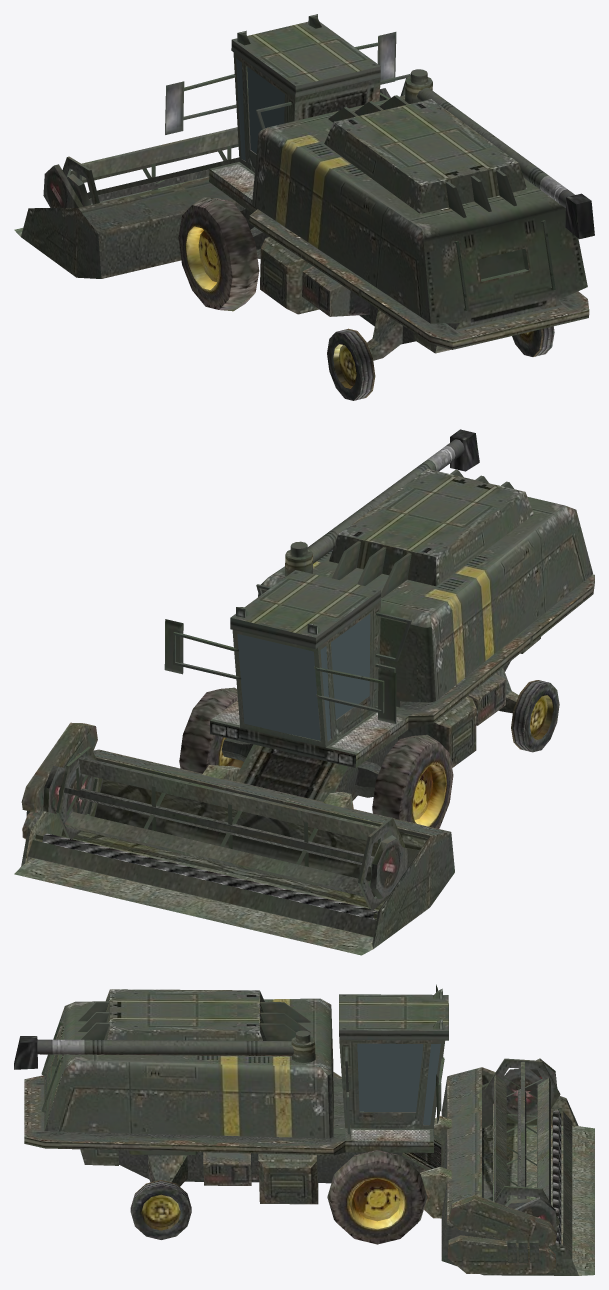
File: p54_21_harvester_olive.glb
The picture shows the model from 3 angles, top to bottom: view 1: azimuth 30°, elevation 25°; view 2: azimuth 150°, elevation 25°; view 3: azimuth 270°, elevation 25°; orthographic projection. The views are drawn at different scales.
Parts seen in each view (by area): view 1: Body, Glass; view 2: Body, Glass; view 3: Body, Glass.
Boxes of the visible parts, box(x1,y1,x2,y2) form: Body: box(14, 14, 594, 400); Glass: box(236, 58, 284, 160); Body: box(14, 429, 594, 955); Glass: box(237, 614, 370, 741); Body: box(14, 984, 594, 1275); Glass: box(357, 1043, 440, 1125).
Size of the model in its own units: 6.21 by 3.75 by 9.96.
Materials: 2 (2 with a texture image).
